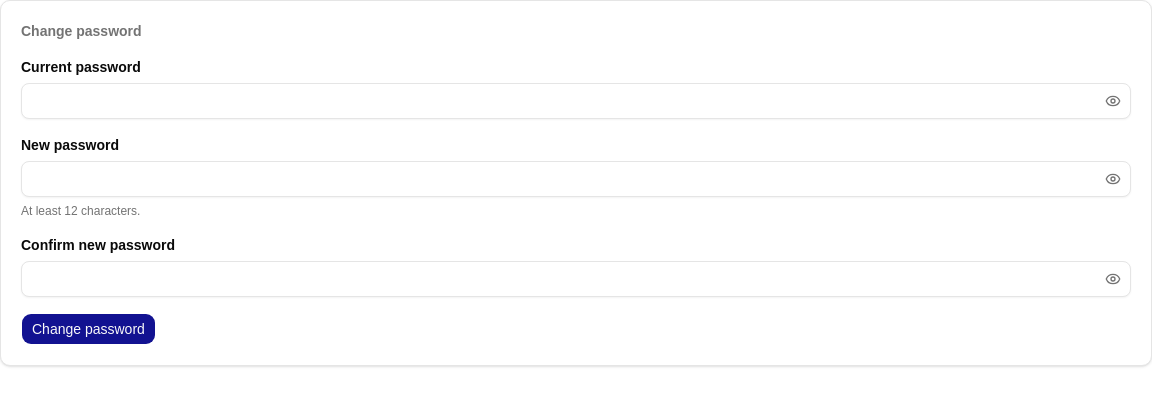
ChangePasswordForm › unavailable → keeps what was typed
In the password field labelled "Current password": [576, 101] box [21,83,1131,119], type "current-password-1"
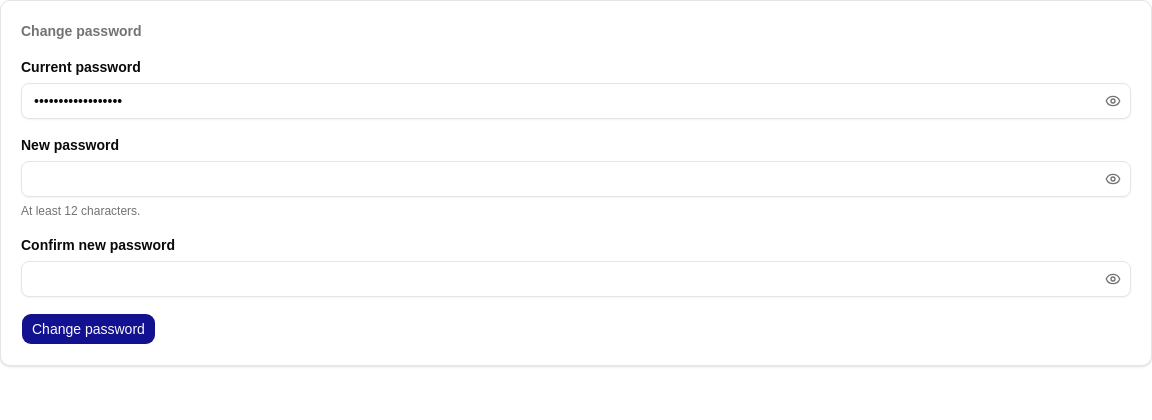
In the password field labelled "New password": [576, 179] box [21,161,1131,197], type "brand-new-password"
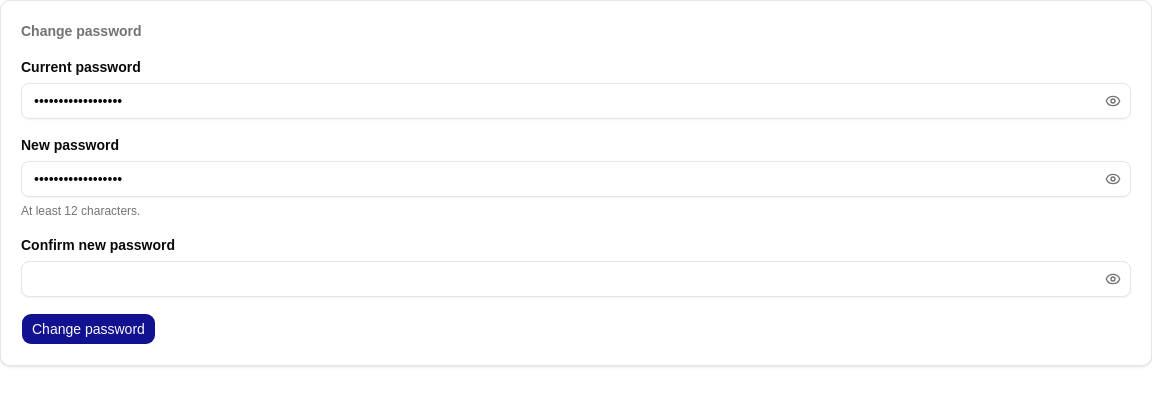
In the password field labelled "Confirm new password": [576, 279] box [21,261,1131,297], type "brand-new-password"
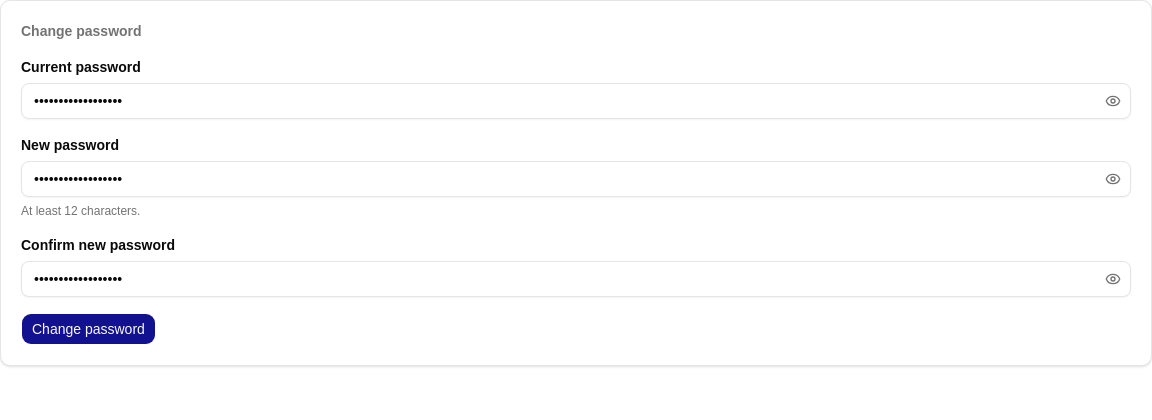
Click the button "Change password": [88, 329] box [21,313,156,345]
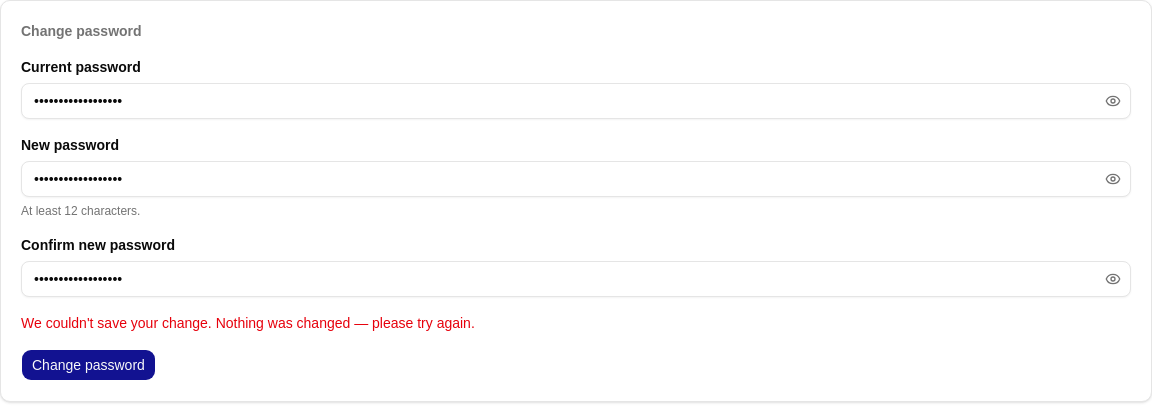
expect the message reads "We couldn't save your change. Nothing was changed — please try again.": met, box [21,315,475,331]
